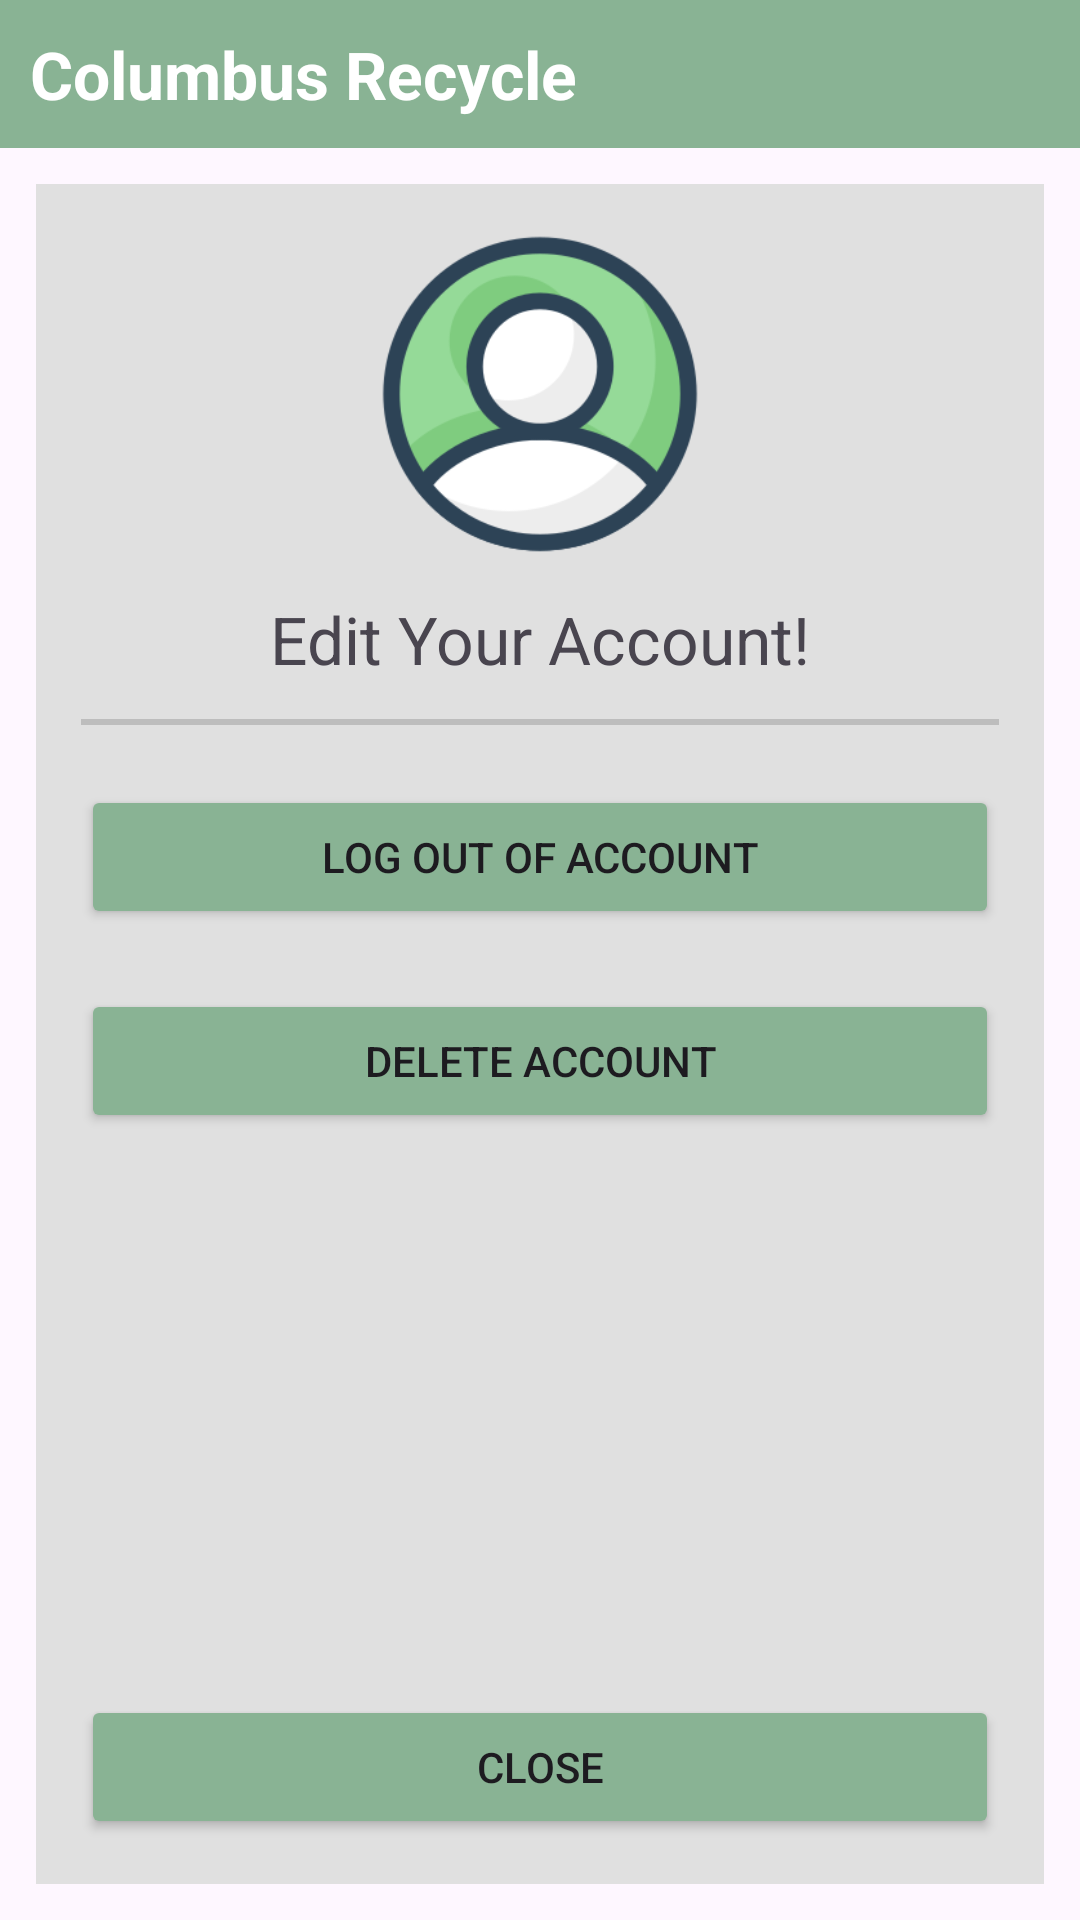

Where to tap for icons on this 1080x1920 app screen, as point (x, y):
user: point (540, 394)
